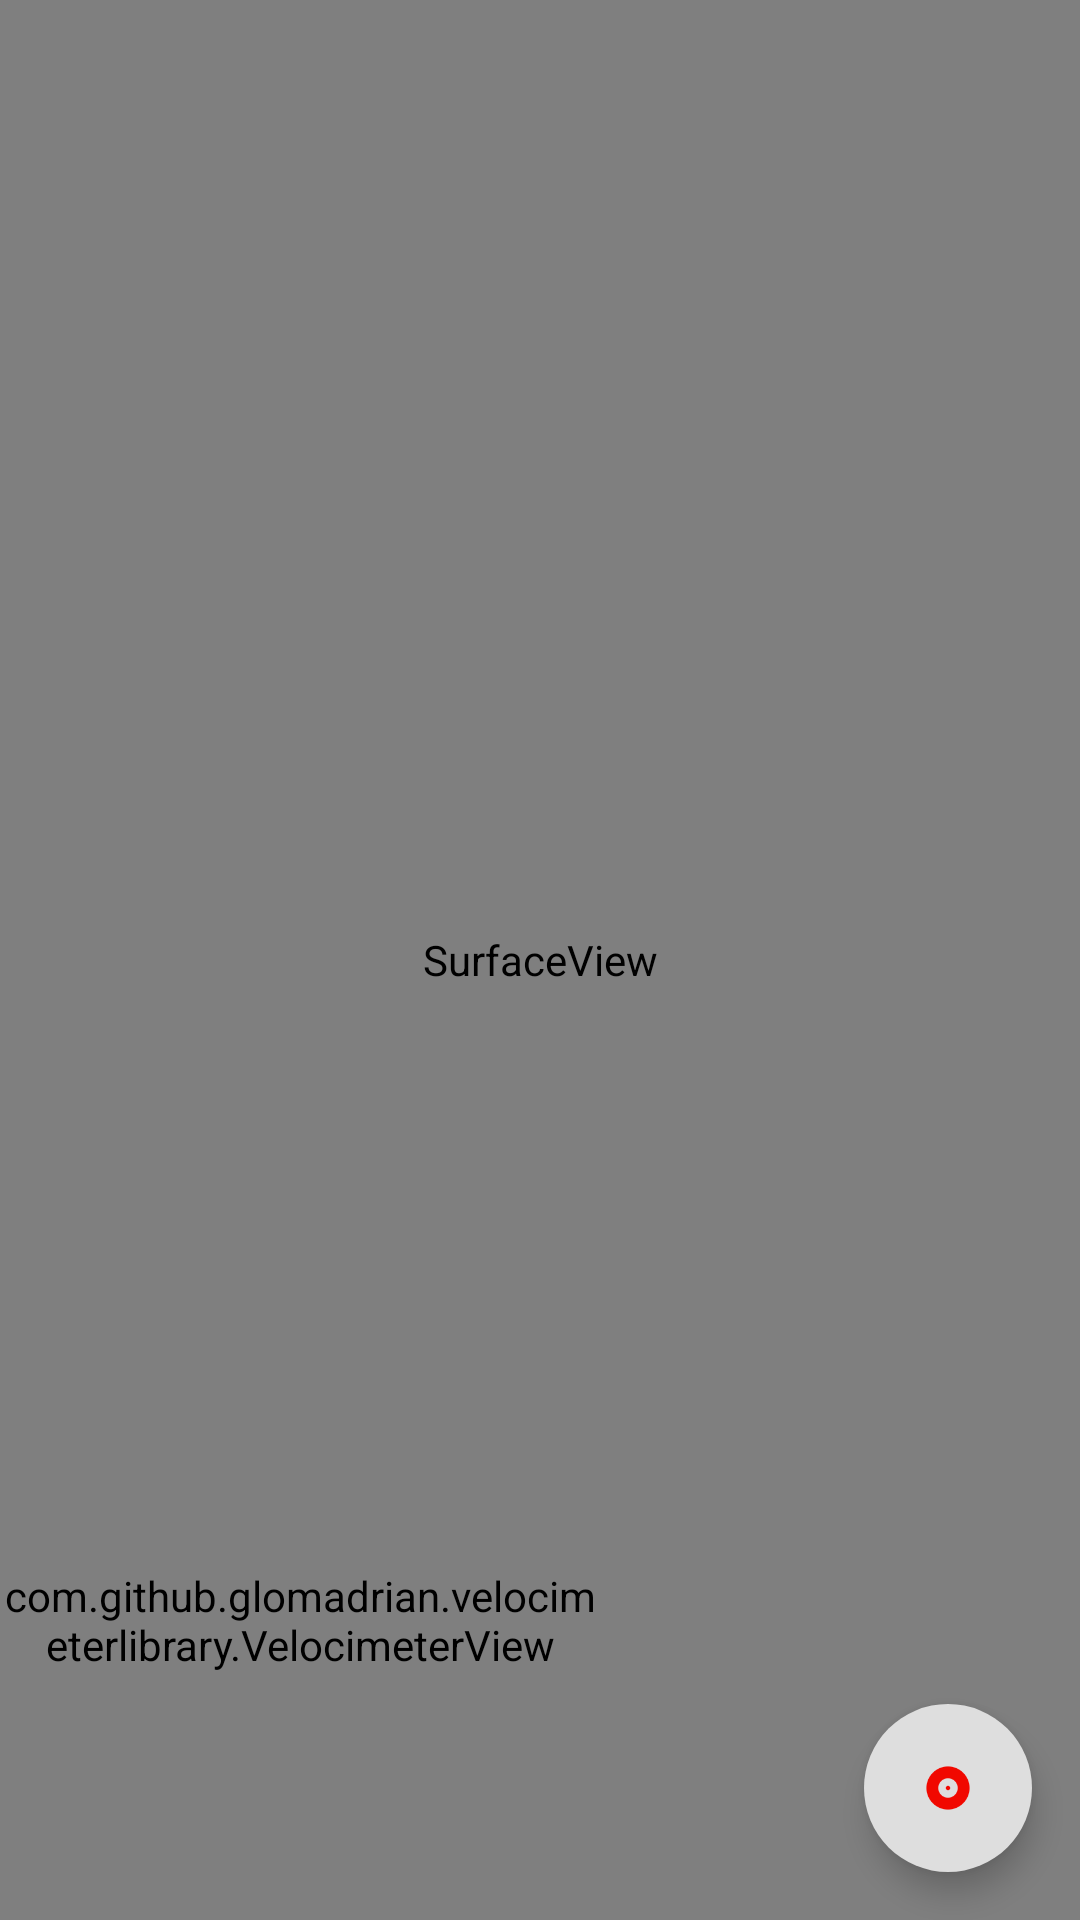

Named icons in this screenshot (1080*1920) and their bounding boxes, BBox(x1, y1, x2, y2):
record: BBox(864, 1704, 1032, 1872)
